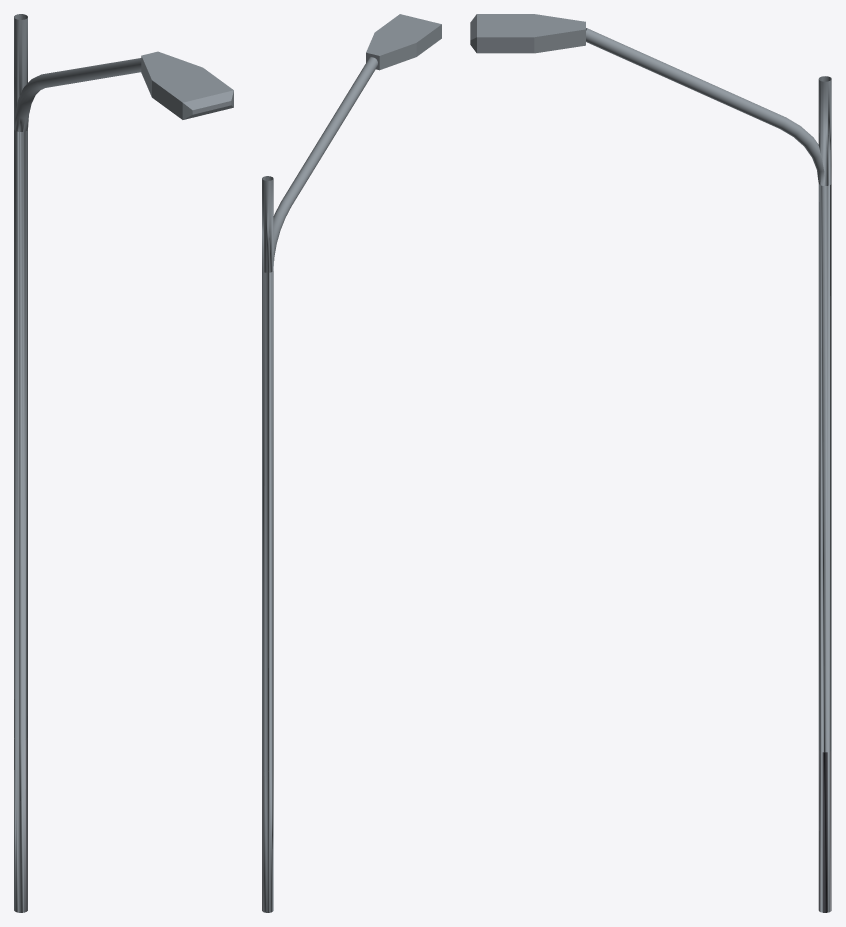
File: LightLamp2.fbx
The picture shows the model from 3 angles, left to right: view 1: azimuth 30°, elevation 25°; view 2: azimuth 150°, elevation 25°; view 3: azimuth 270°, elevation 25°; orthographic projection. The views are drawn at different scales.
Parts seen in each view (by area): view 1: LightLamp2; view 2: LightLamp2; view 3: LightLamp2.
Boxes of the visible parts, x1,y1,x2,y2 form: LightLamp2: (14,14,233,912); LightLamp2: (262,14,441,912); LightLamp2: (470,14,831,912).
Size of the model in its own units: 0.307 by 5.45 by 2.02.
1 material, 1 textured.
